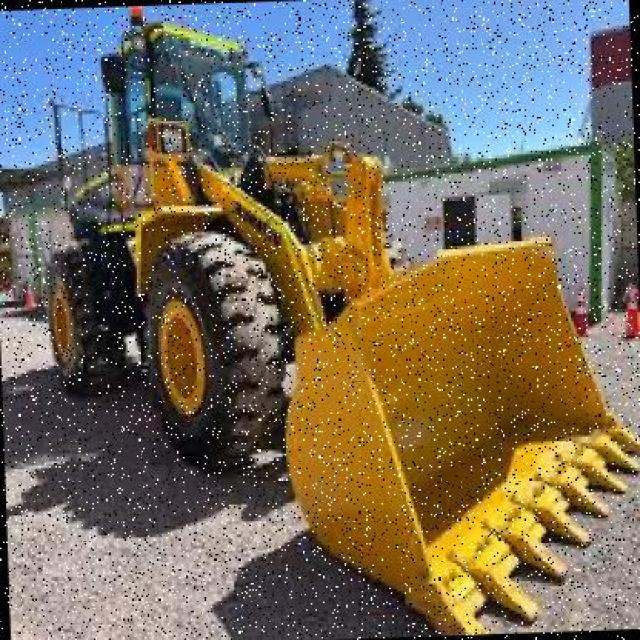buldozerpayloadergrader: (29, 0, 638, 640)
